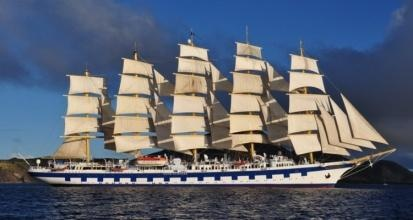fanchuan: (21, 29, 404, 189)
